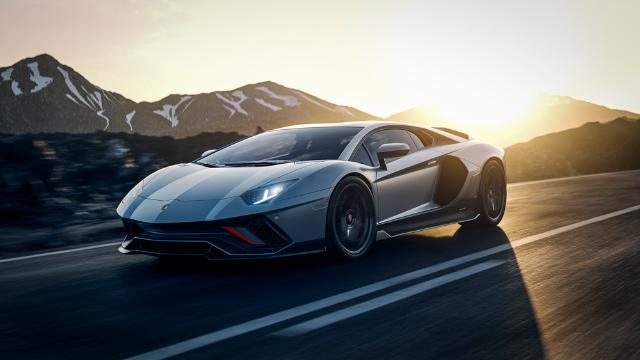lamborghini: (116, 121, 506, 263)
